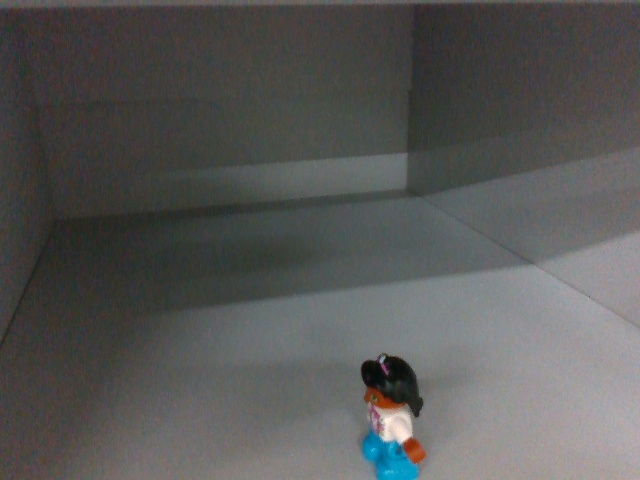people: (351, 352, 427, 480)
